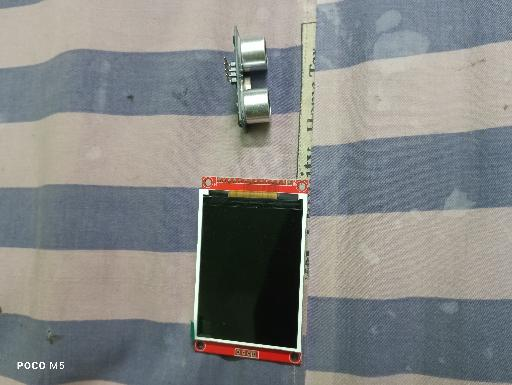Display: (189, 175, 310, 367)
sensor: (222, 23, 273, 136)
